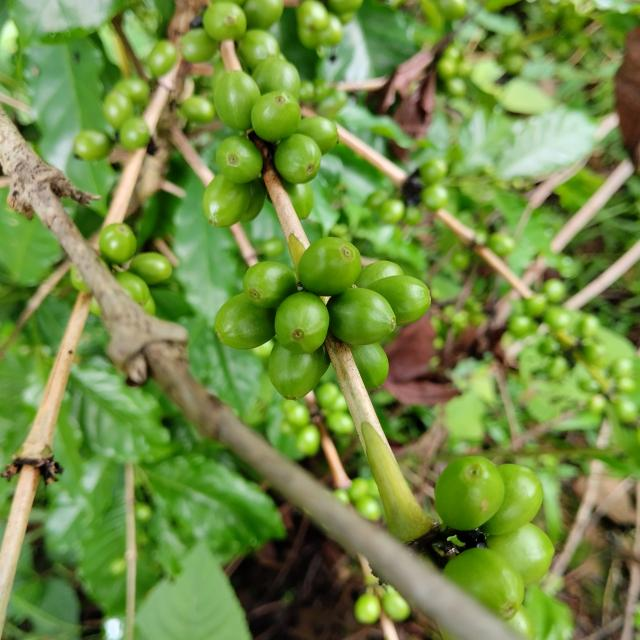green: (435, 457, 505, 531), (482, 464, 544, 536), (327, 288, 396, 345), (268, 341, 331, 400), (298, 237, 361, 296), (214, 292, 276, 349), (274, 292, 330, 354), (368, 275, 431, 326), (214, 70, 261, 130), (202, 172, 250, 227), (251, 90, 301, 141), (243, 261, 297, 308), (274, 133, 322, 183), (216, 136, 262, 183), (252, 55, 301, 99), (98, 223, 136, 264), (128, 252, 171, 285), (355, 261, 404, 288), (72, 129, 111, 160), (102, 89, 132, 129), (119, 116, 150, 150)
